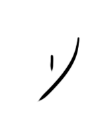so: (35, 34, 82, 103)
